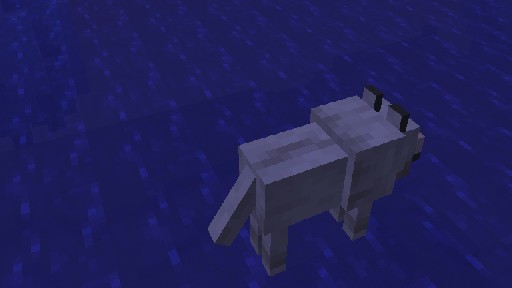wolf: (207, 84, 425, 277)
